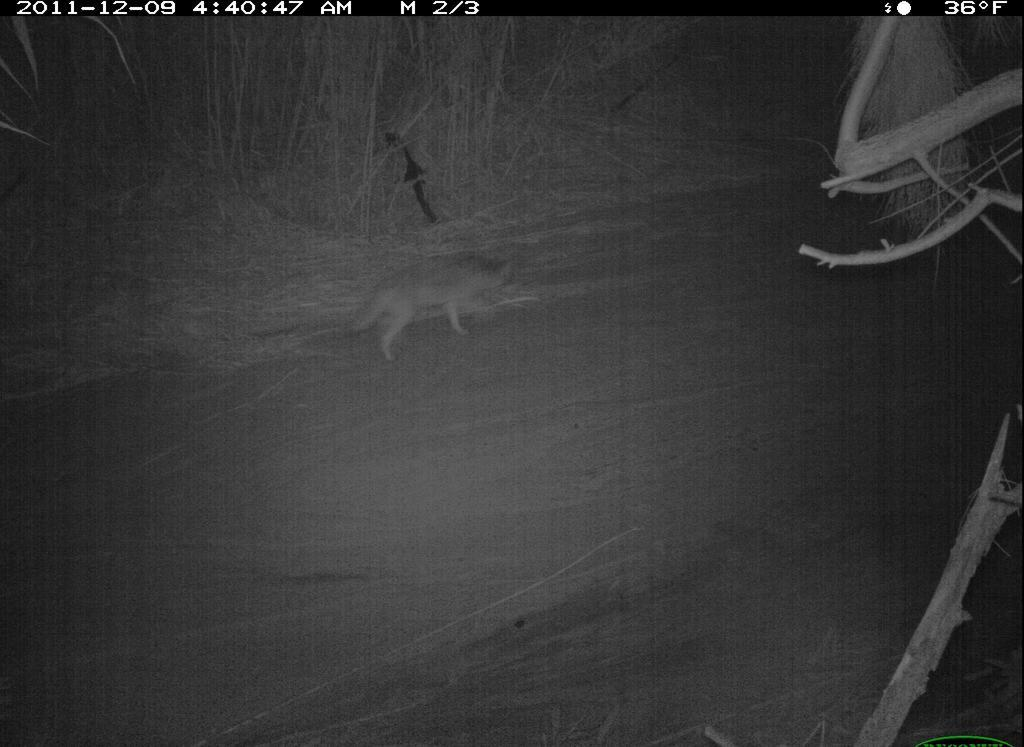coyote: (331, 242, 533, 378)
